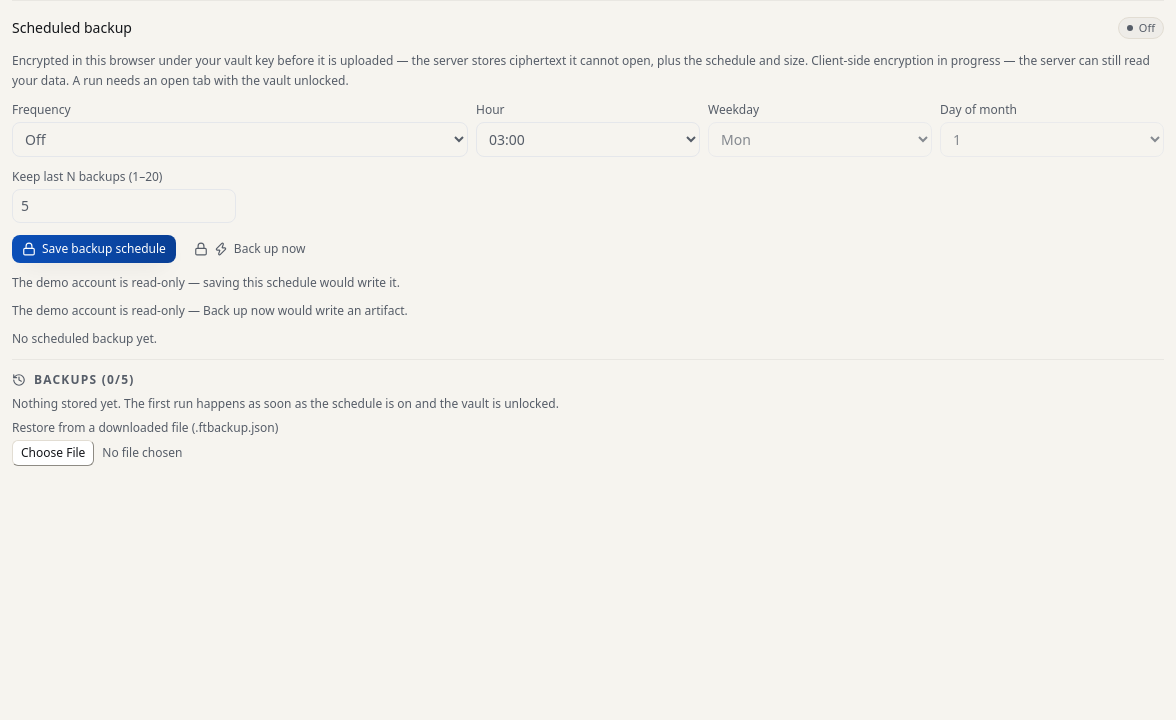
docs/47 §13 ex.4 — Back up now (F-2) › demo + unlocked vault: the padlock renders and a refused run is a refusal, not an error
The width and height of the screenshot is (1176, 720).
Expected: the 2nd element with test id "demo-lock" is shown, [194,242,208,256]
Click the button "Back up now": (250, 249) [184,235,316,263]
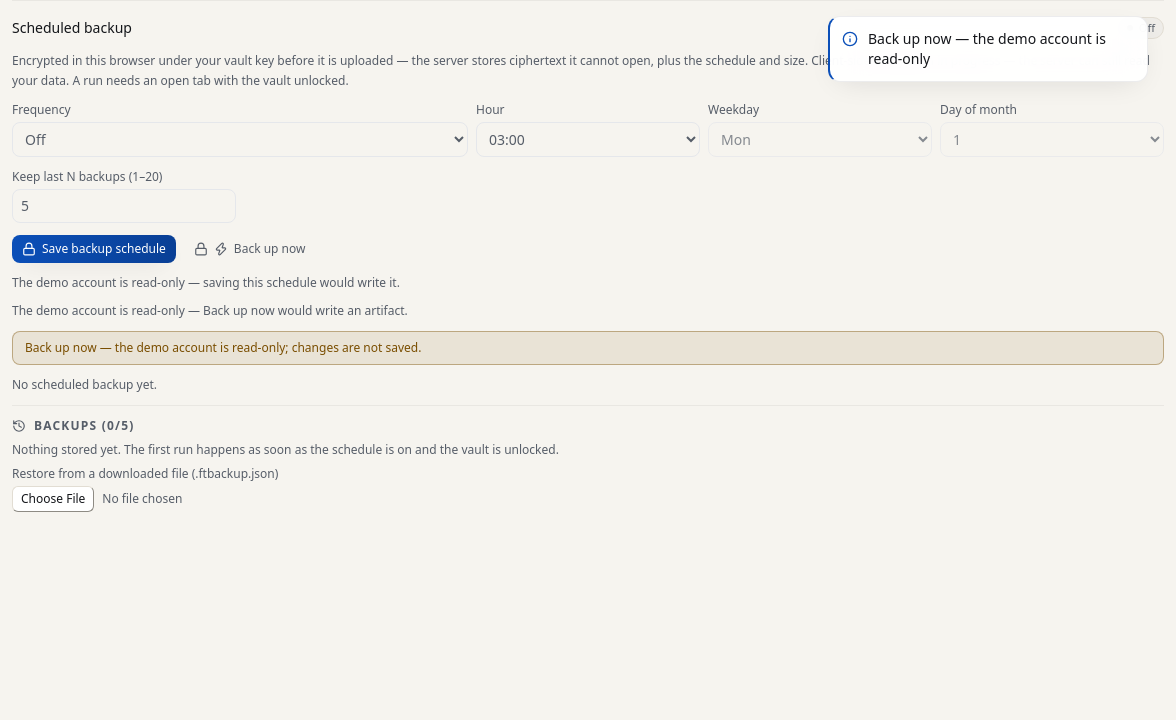
Expected: the number of messages with test id "demo-refusal" is 1, [12,331,1164,365]
Expected: the text "Back up now — the demo account is read-only" is shown, [868,29,1135,69]
